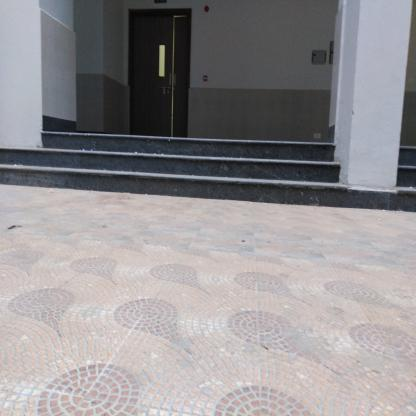stairs: (44, 129, 337, 195)
